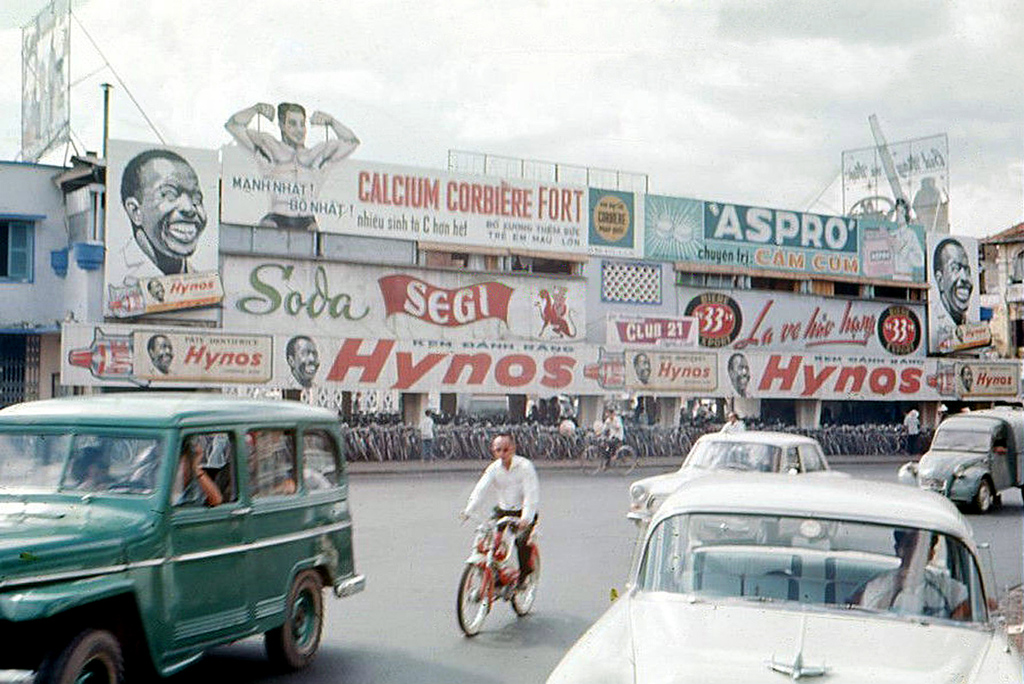mobil: (1, 399, 363, 656)
